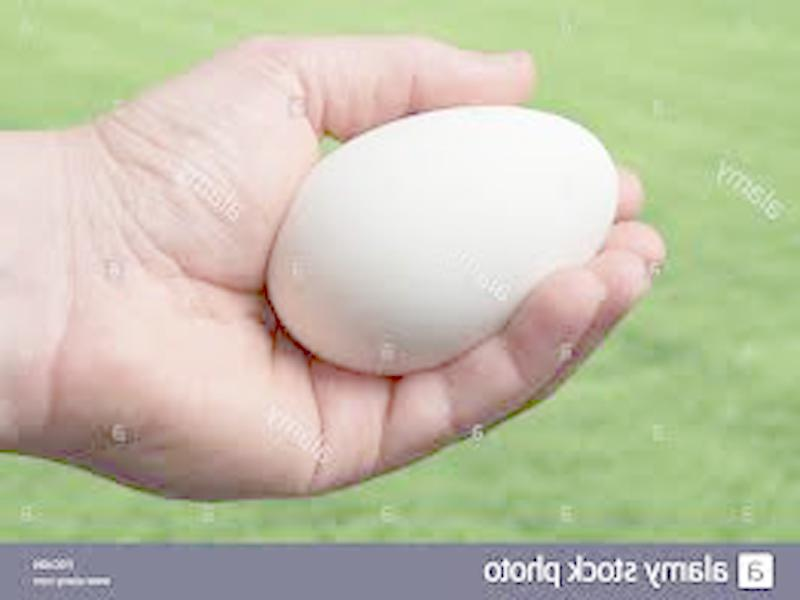Eggs: (262, 103, 616, 375)
